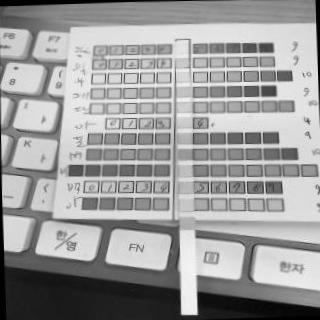mark: (179, 216, 194, 230), (179, 198, 194, 212), (178, 180, 193, 193), (177, 164, 192, 177), (176, 101, 192, 113), (177, 148, 192, 160), (177, 132, 192, 144), (178, 116, 192, 128), (177, 86, 191, 98), (176, 57, 190, 69), (175, 42, 189, 54), (176, 72, 190, 82)
